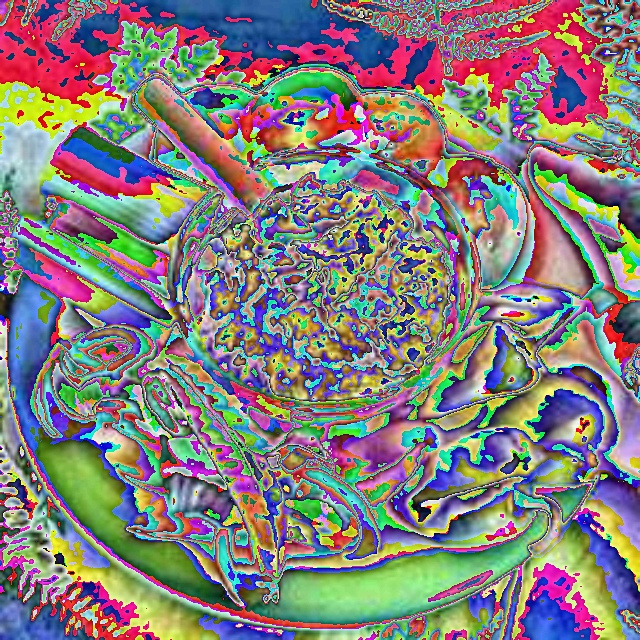background: (10, 65, 639, 604)
